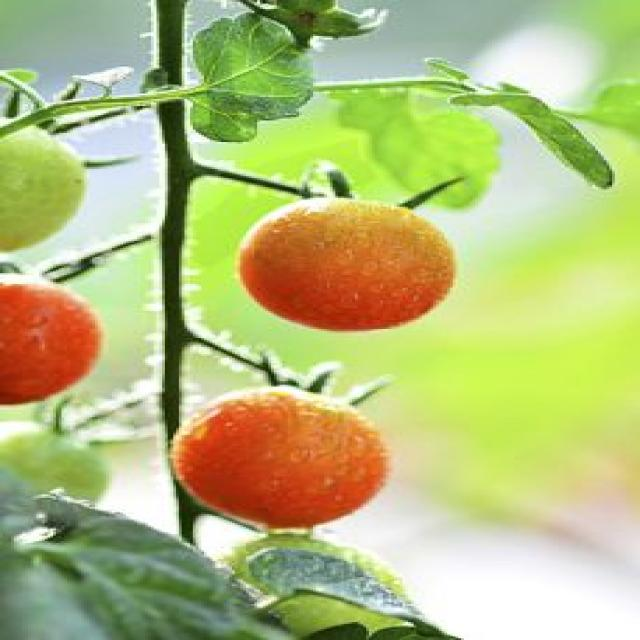level 2: (234, 537, 434, 628), (2, 115, 98, 277), (0, 428, 154, 510)
level 5: (160, 379, 423, 529), (236, 182, 482, 332)
level 6: (0, 266, 120, 414)
